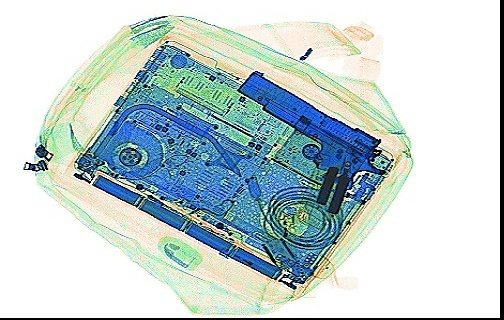lighter: (277, 204, 300, 263)
